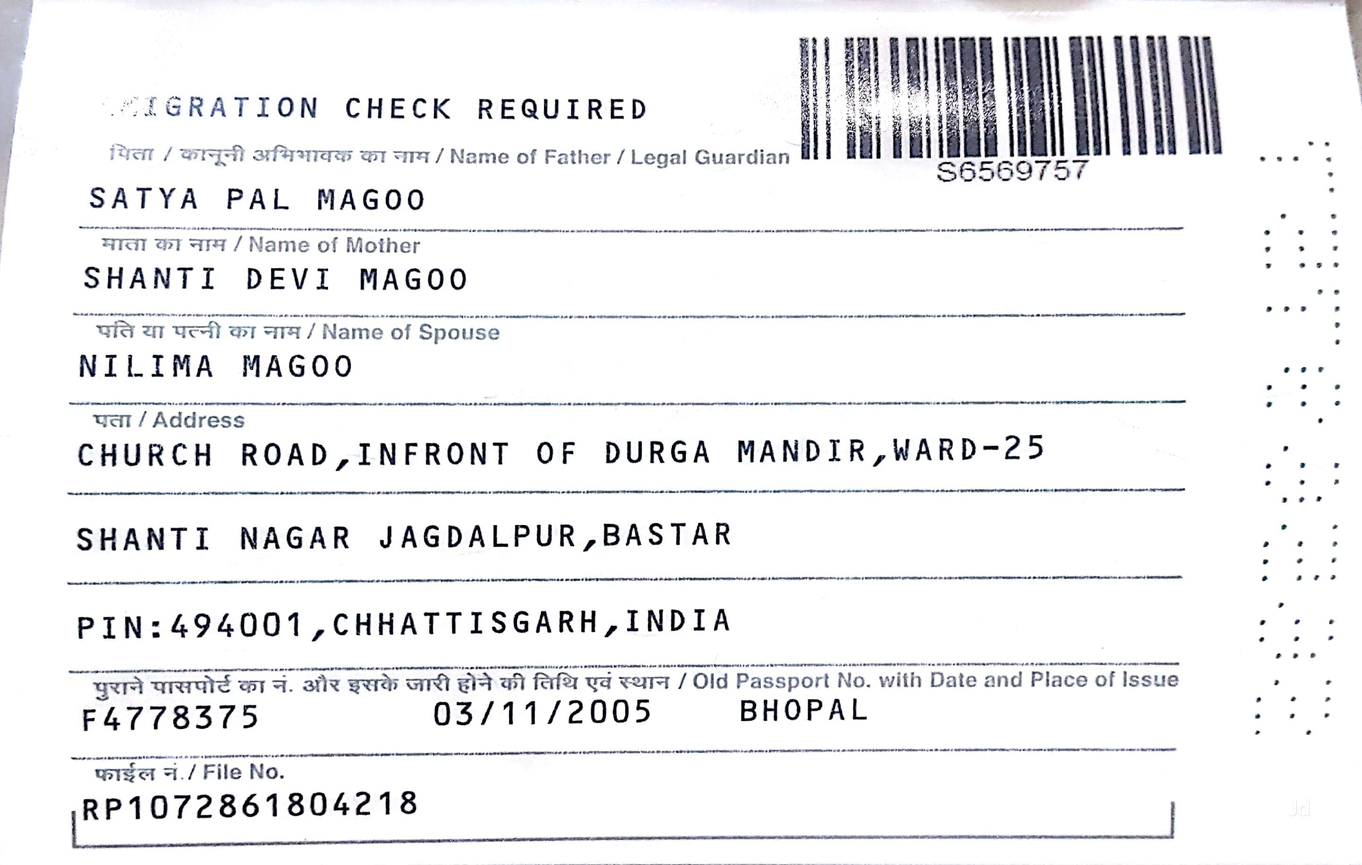File_no: (73, 784, 444, 836)
address: (66, 425, 1117, 666)
father_name: (60, 168, 448, 224)
mother_name: (57, 249, 482, 308)
old_passport_details: (58, 693, 877, 741)
passport_no: (923, 144, 1115, 198)
spouse_name: (55, 338, 415, 407)
